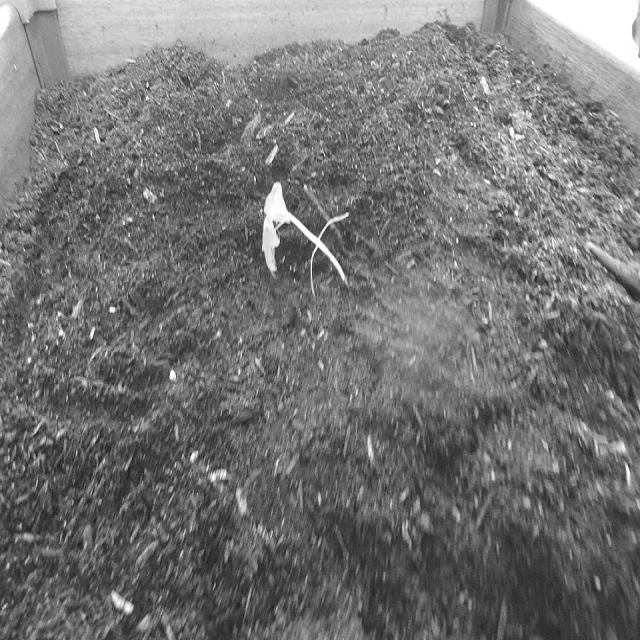Healthy: (236, 146, 370, 336)
